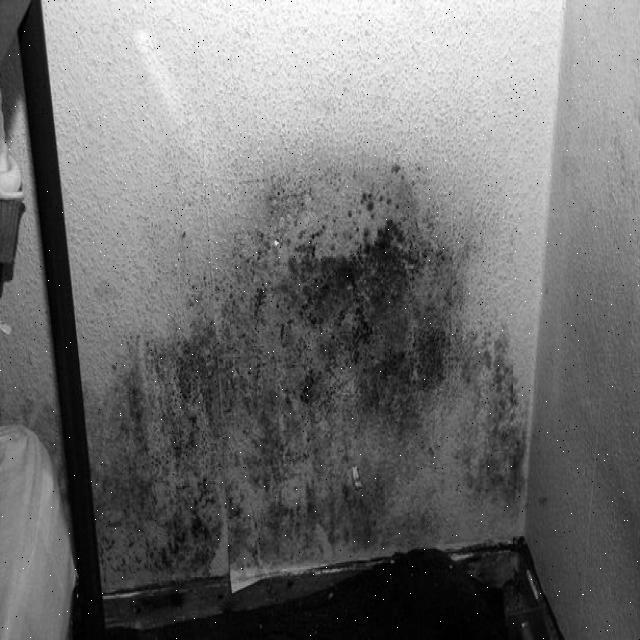stain marks: (85, 148, 530, 592)
